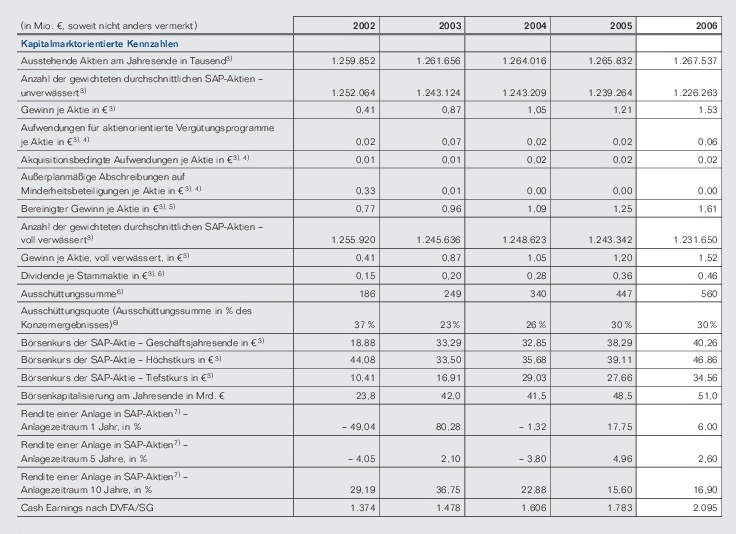table: (0, 0, 736, 534)
